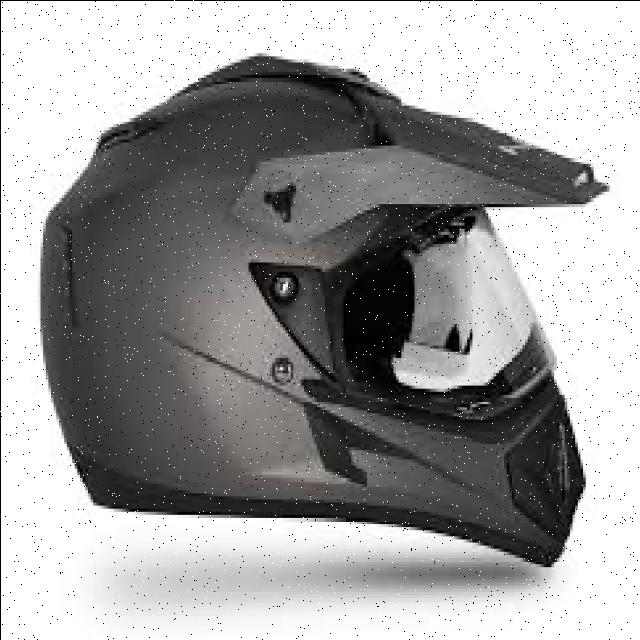Helmet: (41, 55, 605, 563)
